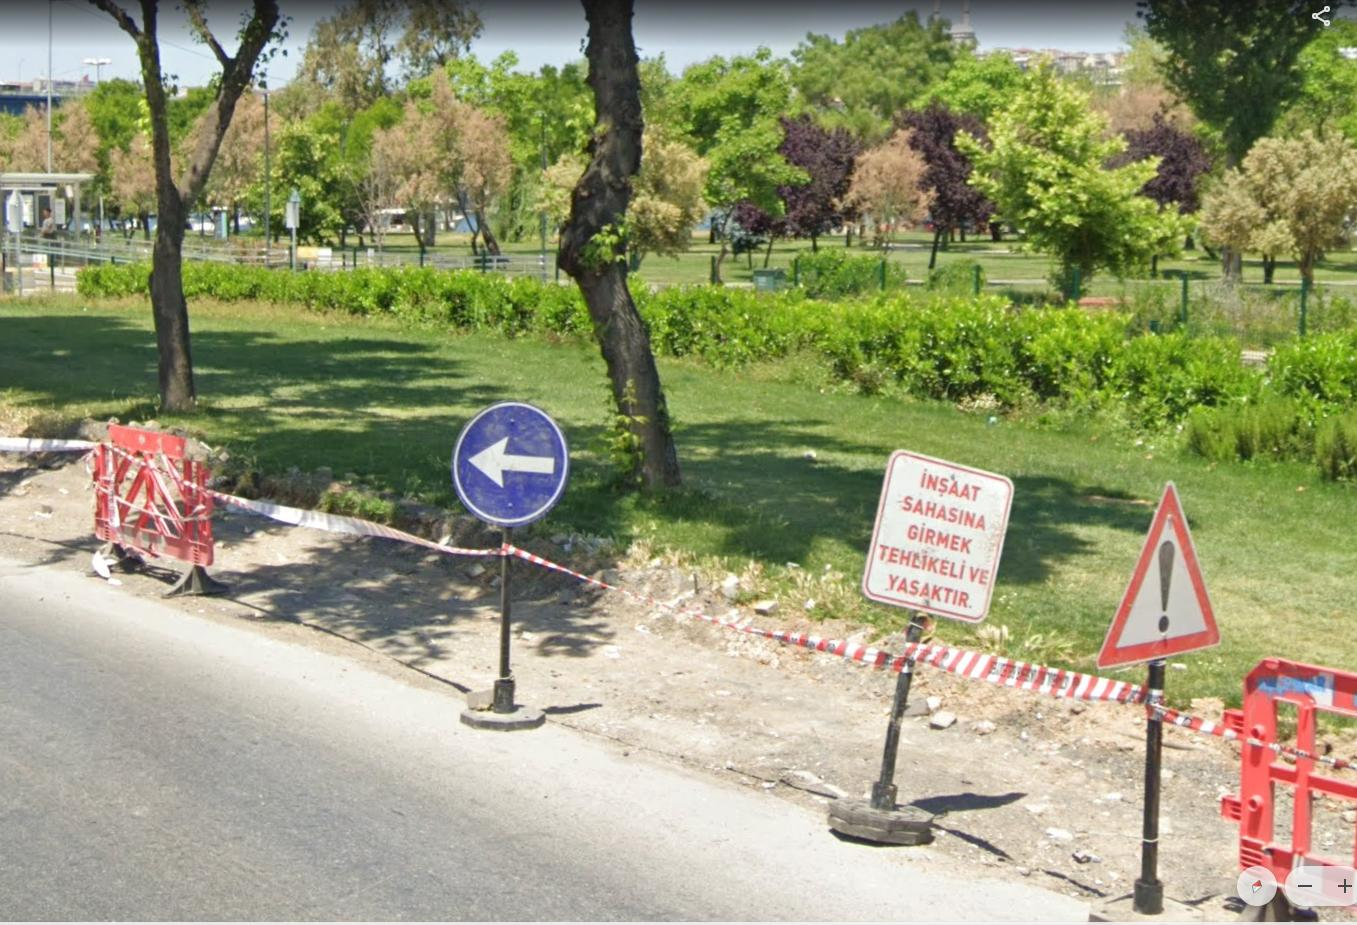turnleft: (457, 403, 568, 521)
